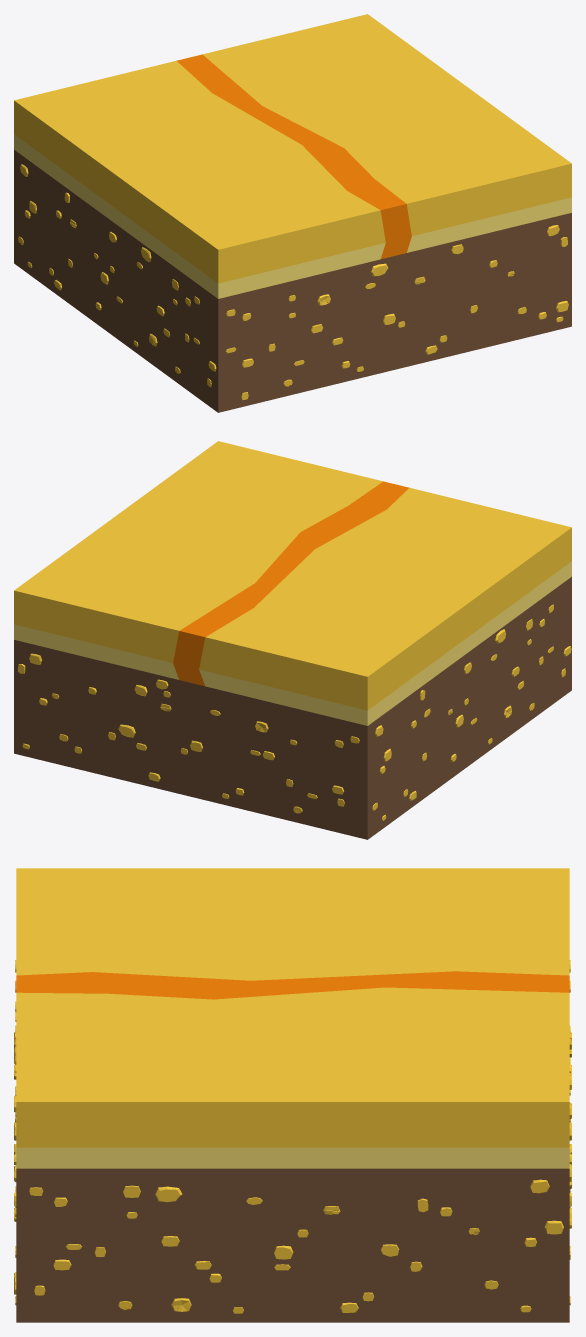
File: Isl_3_Base.fbx
The picture shows the model from 3 angles, top to bottom: view 1: azimuth 30°, elevation 25°; view 2: azimuth 150°, elevation 25°; view 3: azimuth 270°, elevation 25°; orthographic projection. The views are drawn at different scales.
Parts seen in each view (by area): view 1: Isl_3_Base; view 2: Isl_3_Base; view 3: Isl_3_Base.
Part boxes in pixels (x1,y1,x2,y2): Isl_3_Base: [14, 14, 571, 412]; Isl_3_Base: [14, 441, 571, 839]; Isl_3_Base: [14, 868, 571, 1322].
Size of the model in its own units: 2016 by 2018 by 881.
Materials: 1 (1 with a texture image).
